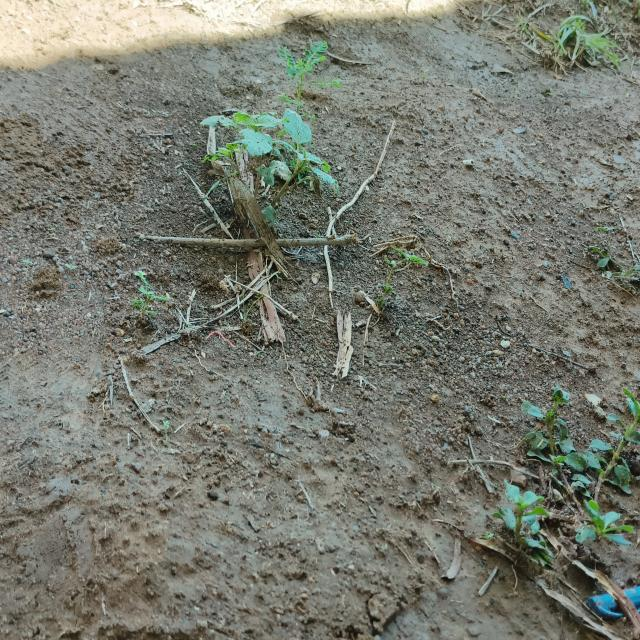weed: (494, 383, 635, 582), (229, 110, 330, 201), (125, 274, 170, 334)
